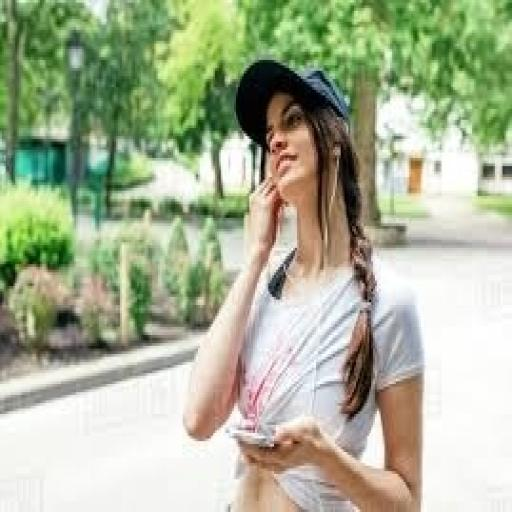listening_to_music: (181, 54, 428, 510)
